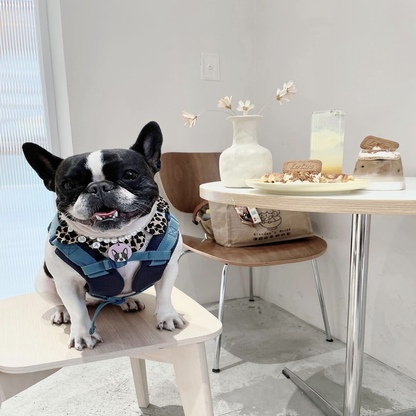bulldog: (21, 119, 190, 351)
